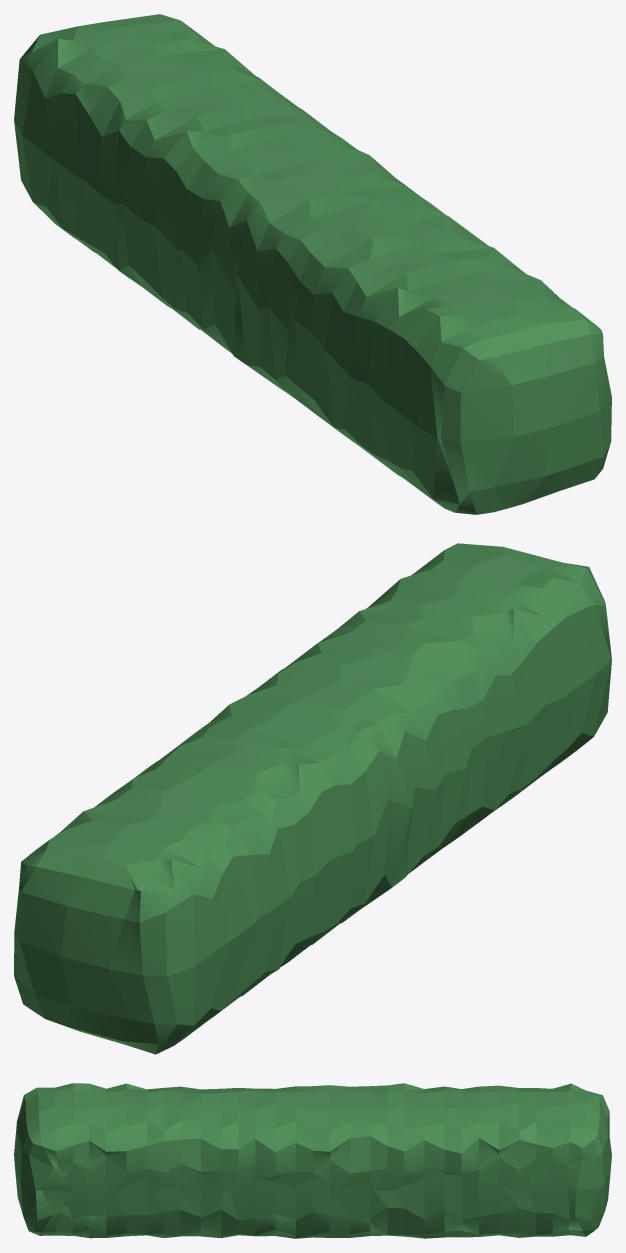
File: StreetBush.fbx
3 views of the same model, one above another, from view 1: azimuth 30°, elevation 25°; view 2: azimuth 150°, elevation 25°; view 3: azimuth 270°, elevation 25° (orthographic). The views are drawn at different scales.
Parts seen in each view (by area): view 1: pCube4651; view 2: pCube4651; view 3: pCube4651.
Part boxes in pixels (x1,y1,x2,y2): pCube4651: (14,14,611,514); pCube4651: (14,543,611,1054); pCube4651: (14,1083,611,1238).
Size of the model in its own units: 1.02 by 1.03 by 4.53.
